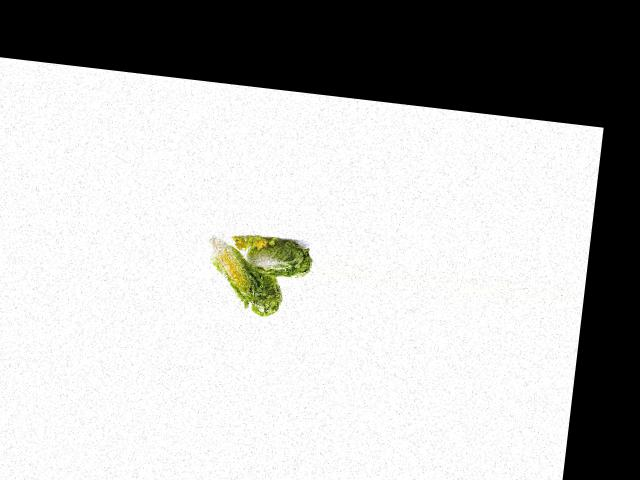lettuce: (236, 230, 313, 282)
